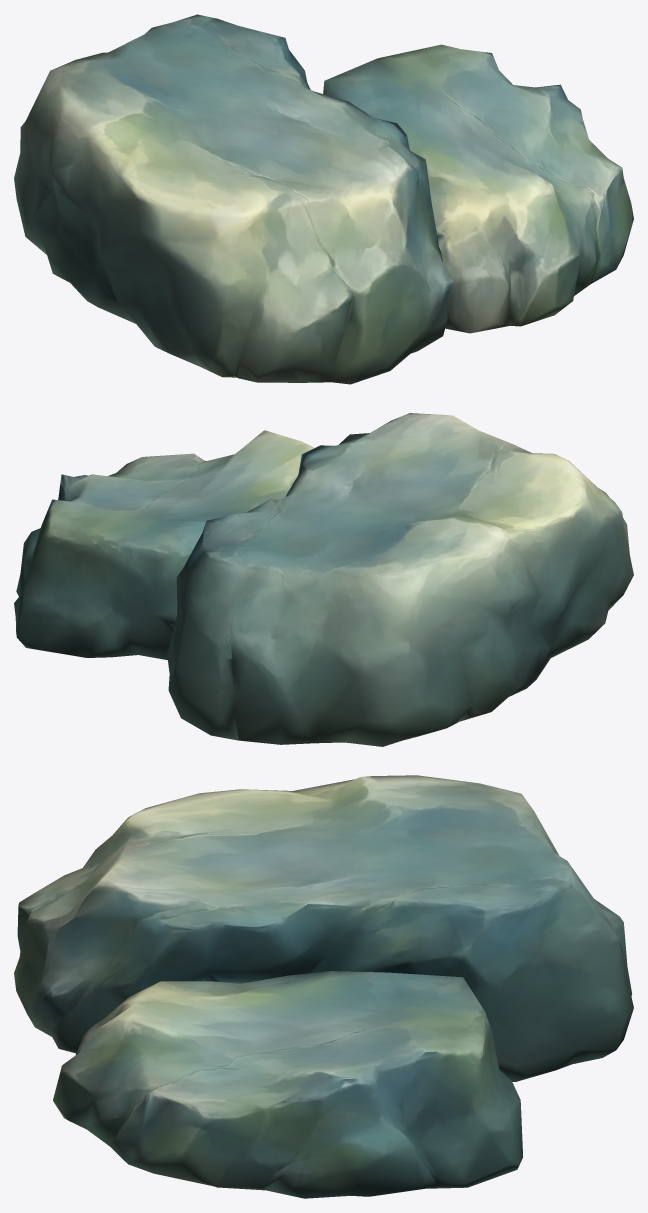
The model's file is model_raw.glb.
3 views of the same model, one above another, from view 1: azimuth 30°, elevation 25°; view 2: azimuth 150°, elevation 25°; view 3: azimuth 270°, elevation 25° (orthographic). The views are drawn at different scales.
Visible parts, largest first — view 1: tripo_node_022606ec-226b-4af3-a9bf-bf6e679ee02d; view 2: tripo_node_022606ec-226b-4af3-a9bf-bf6e679ee02d; view 3: tripo_node_022606ec-226b-4af3-a9bf-bf6e679ee02d.
Boxes of the visible parts, bbox=[...] form: tripo_node_022606ec-226b-4af3-a9bf-bf6e679ee02d: bbox=[14, 14, 633, 384]; tripo_node_022606ec-226b-4af3-a9bf-bf6e679ee02d: bbox=[14, 413, 633, 746]; tripo_node_022606ec-226b-4af3-a9bf-bf6e679ee02d: bbox=[14, 775, 633, 1198].
Bounding box in the file's own units: 1 × 0.3274 × 0.9833.
1 material, 1 textured.
